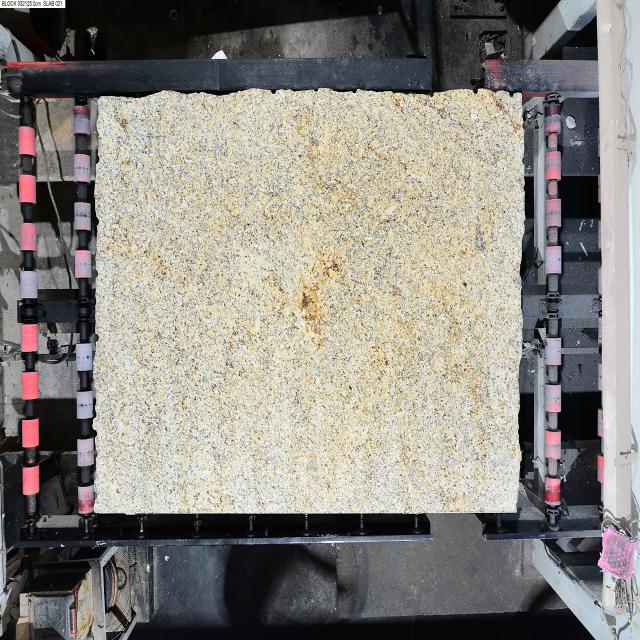chapa: (92, 90, 524, 514)
